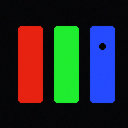0 point: (99, 43, 105, 49)
